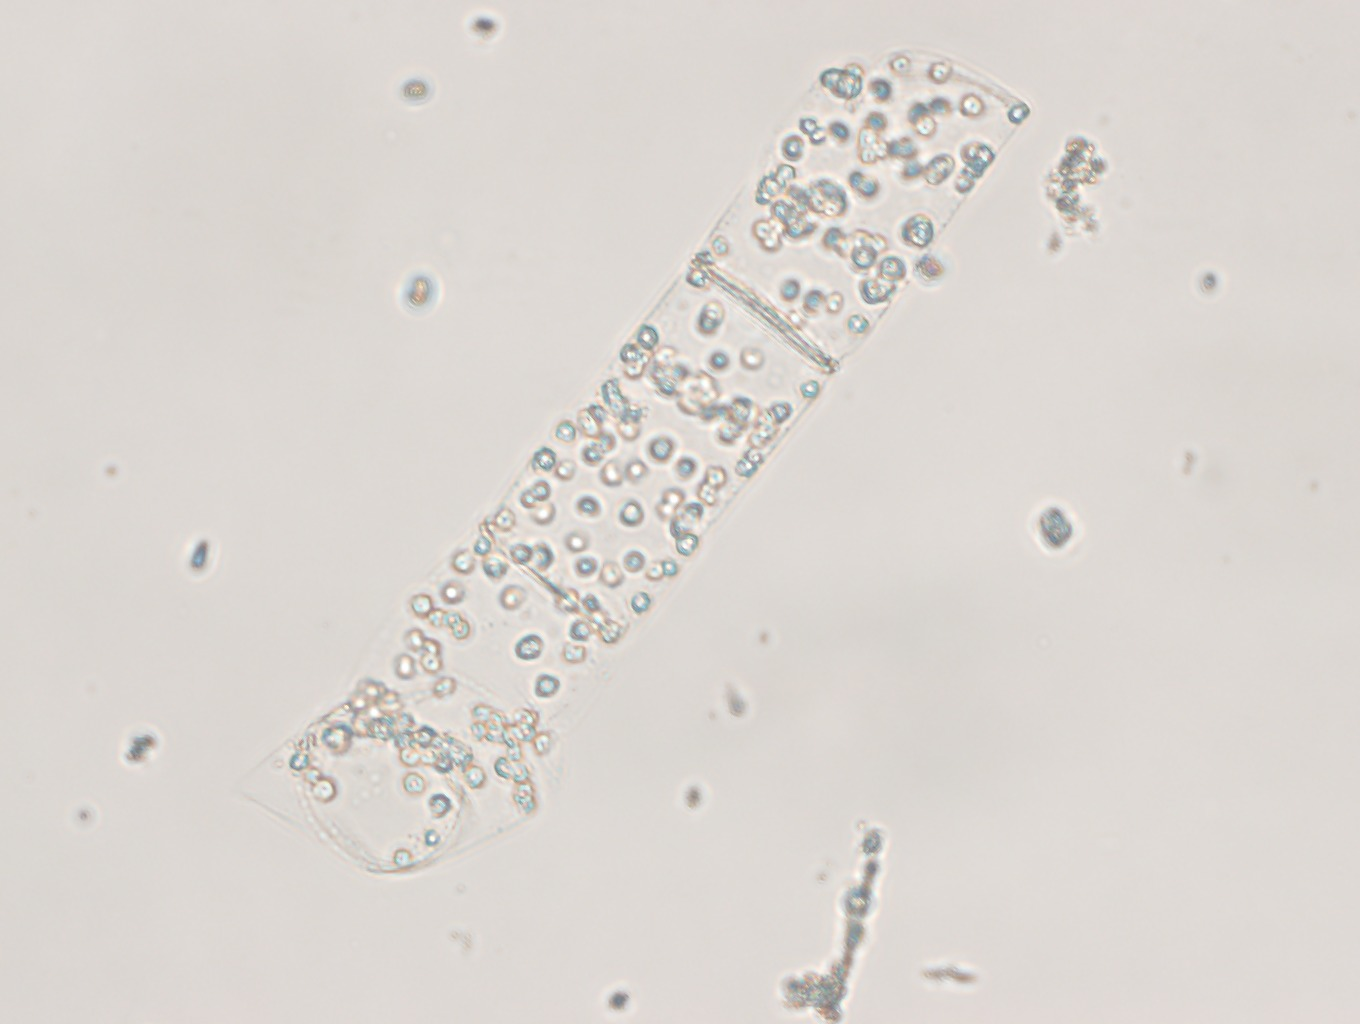guinardia flaccida: (239, 49, 1029, 879)
